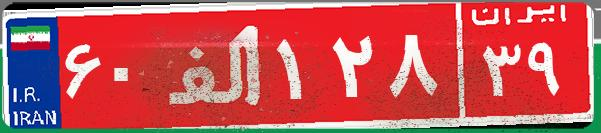0: (110, 28, 158, 105)
1: (273, 28, 330, 110)
2: (330, 28, 385, 110)
3: (475, 38, 525, 113)
6: (57, 26, 110, 107)
8: (385, 28, 445, 110)
9: (525, 38, 570, 115)
الف: (158, 15, 273, 115)
